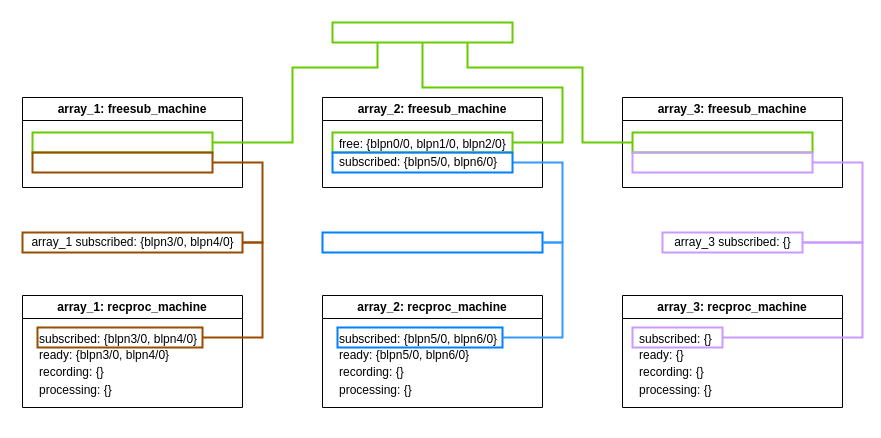
Image size: 881x438. Some labels were removed from this diagram. Here are the shapes that lost their labels. From the top down, the centre of each, then its label:
At point (422, 32): "free: {blpn0/0, blpn1/0, blpn2/0}".
At point (122, 162): "free: {blpn0/0, blpn1/0, blpn2/0} subscribed: {blpn3/0, blpn4/0}".
At point (722, 162): "free: {blpn0/0, blpn1/0, blpn2/0} subscribed: {}".
At point (432, 242): "array_2 subscribed: {blpn5/0, blpn6/0}".
